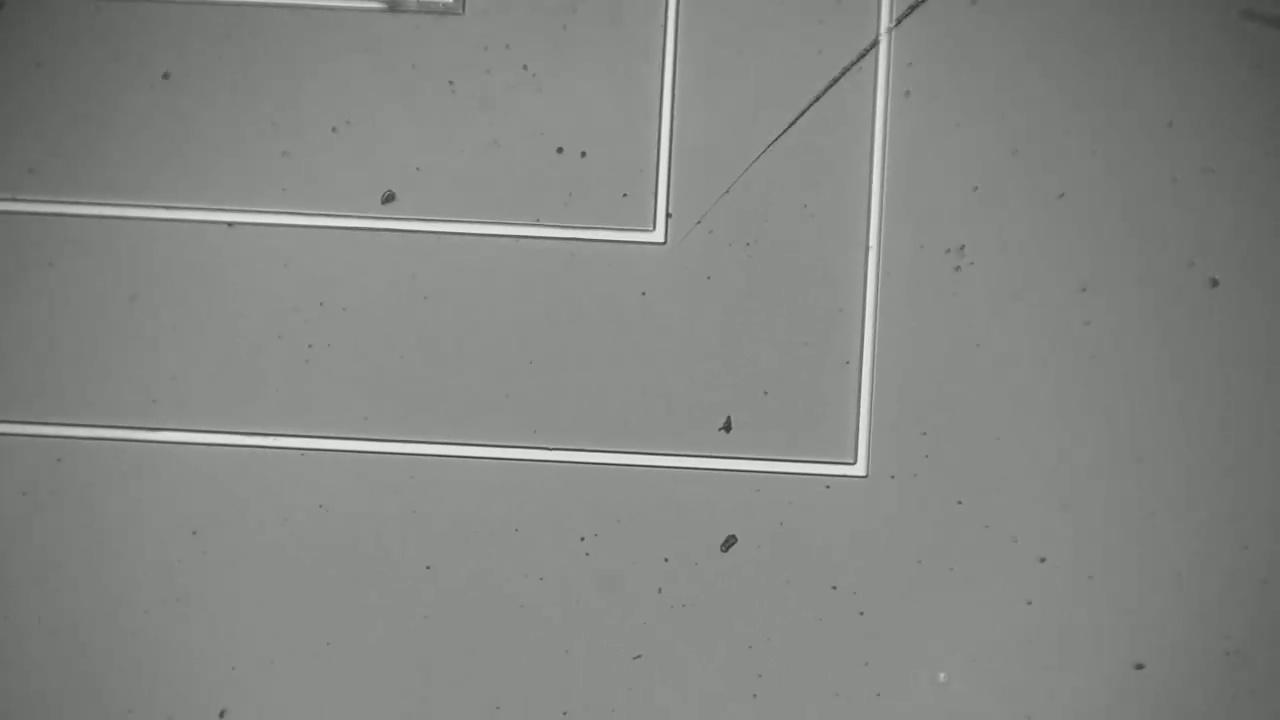gray_line: (364, 1, 476, 32)
scratch: (677, 1, 934, 243)
